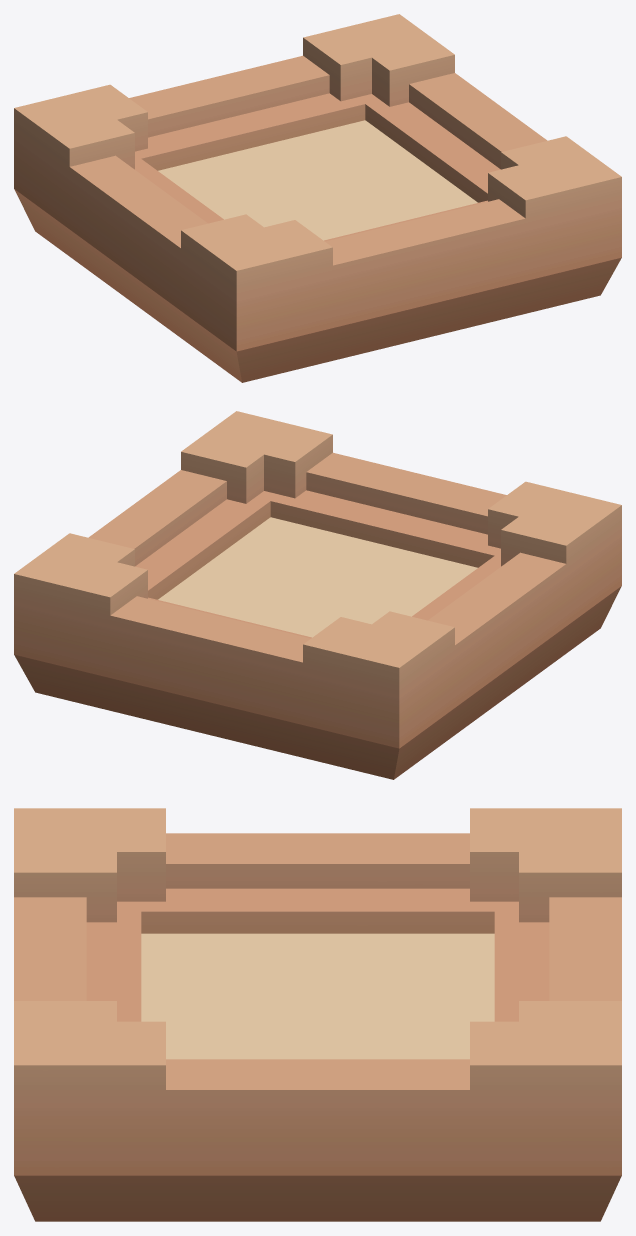
Rendered from kenney-castle-tower-square-top.glb.
3 renders of one model, top to bottom at view 1: azimuth 30°, elevation 25°; view 2: azimuth 150°, elevation 25°; view 3: azimuth 270°, elevation 25°, orthographic. The views are drawn at different scales.
Parts seen in each view (by area): view 1: tower-square-top; view 2: tower-square-top; view 3: tower-square-top.
Part boxes in pixels (bbox=[...]): tower-square-top: bbox=[14, 14, 621, 382]; tower-square-top: bbox=[14, 411, 621, 779]; tower-square-top: bbox=[14, 808, 621, 1221].
Bounding box in the file's own units: 1 × 0.3 × 1.
1 material, 1 textured.
